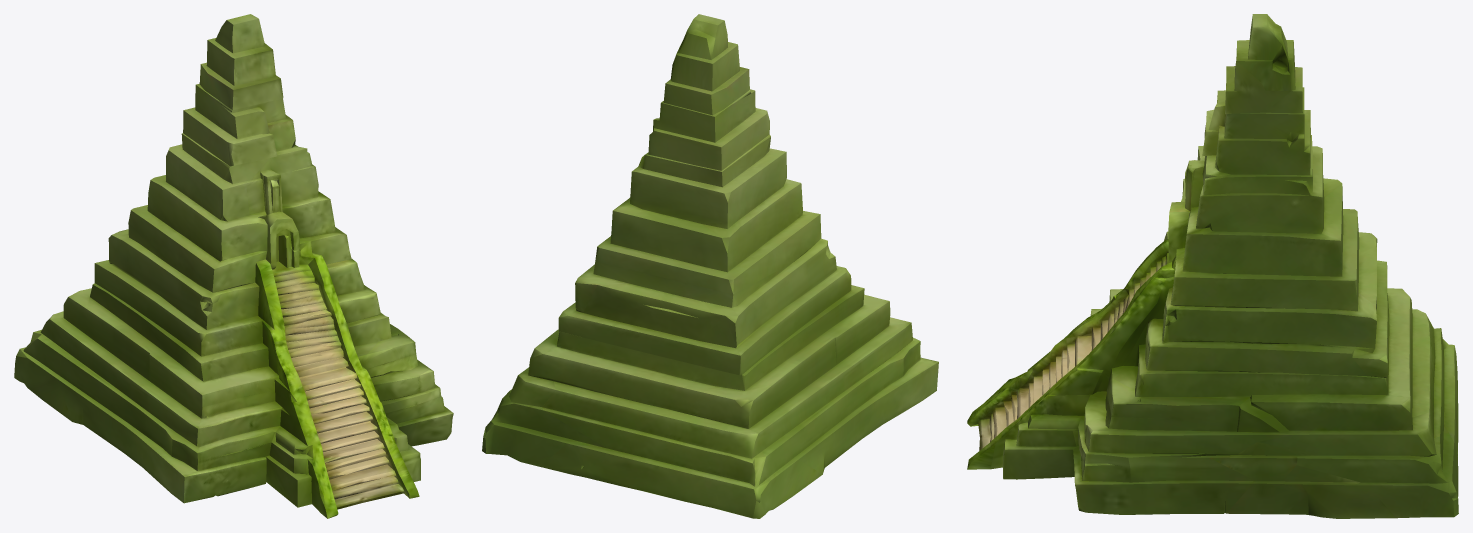
The model's file is m2TempleTowerBg.glb.
3 views of the same model, side by side, from view 1: azimuth 30°, elevation 25°; view 2: azimuth 150°, elevation 25°; view 3: azimuth 270°, elevation 25° (orthographic). The views are drawn at different scales.
Parts seen in each view (by area): view 1: model; view 2: model; view 3: model.
Boxes of the visible parts, x1,y1,x2,y2 form: model: (14,14,453,518); model: (482,14,938,518); model: (967,14,1458,518).
Size of the model in its own units: 1.35 by 1.81 by 1.89.
1 material, 1 textured.
